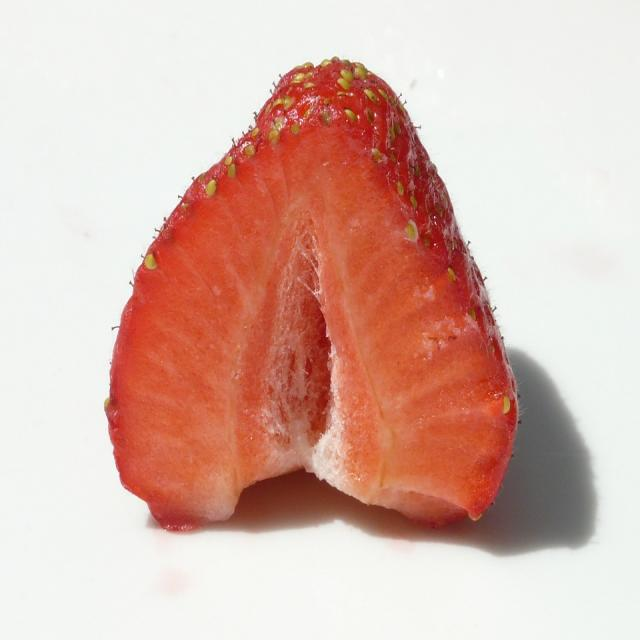strawberry: (81, 41, 542, 558)
